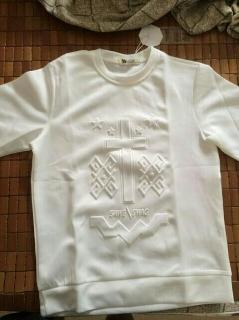short sleeve top: (0, 45, 239, 317)
